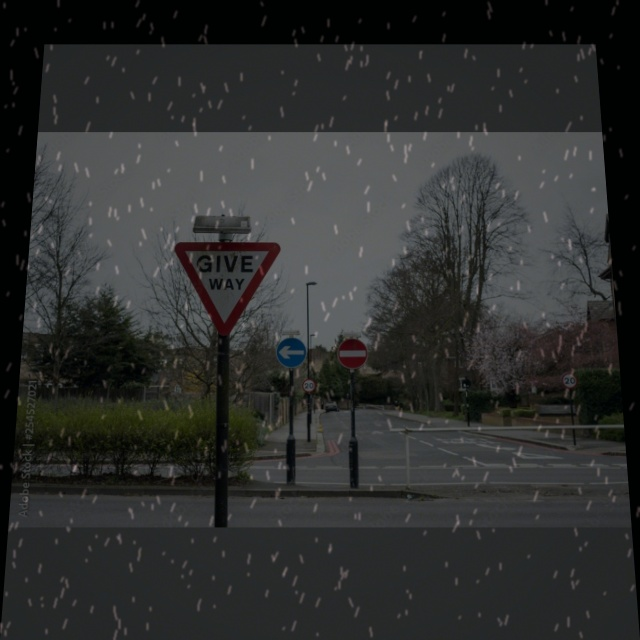Give_Way: (171, 241, 281, 334)
